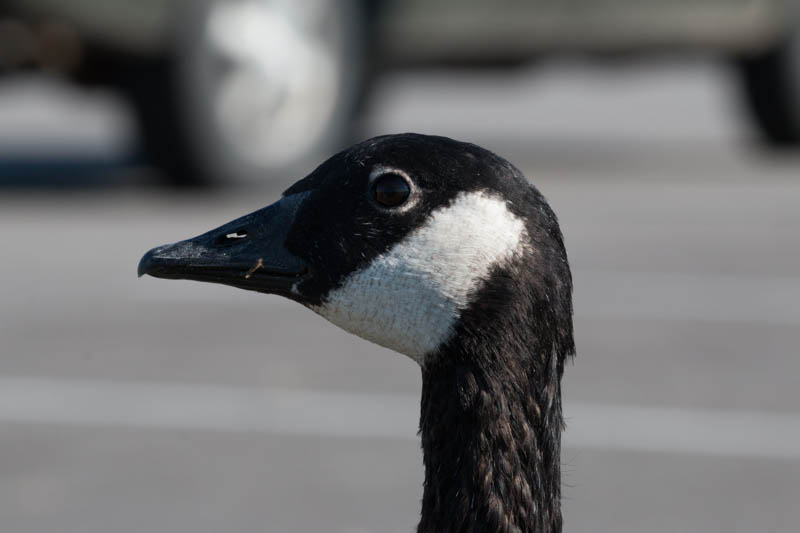goose-head: (138, 132, 574, 373)
